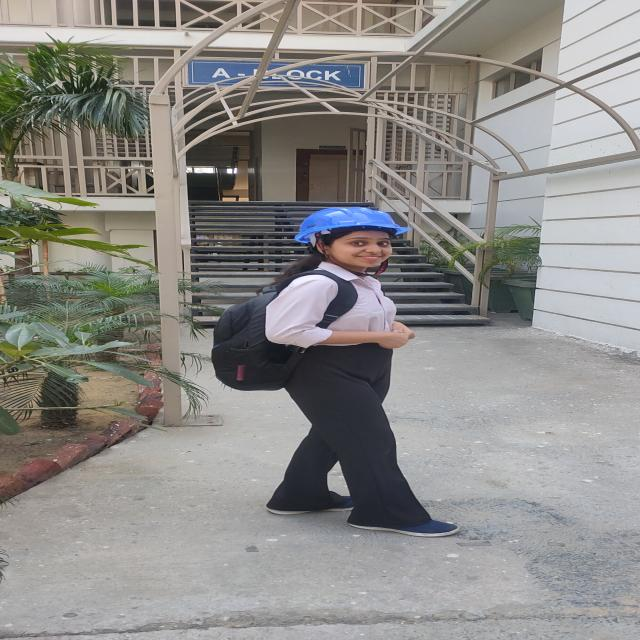no jacket: (264, 207, 423, 538)
